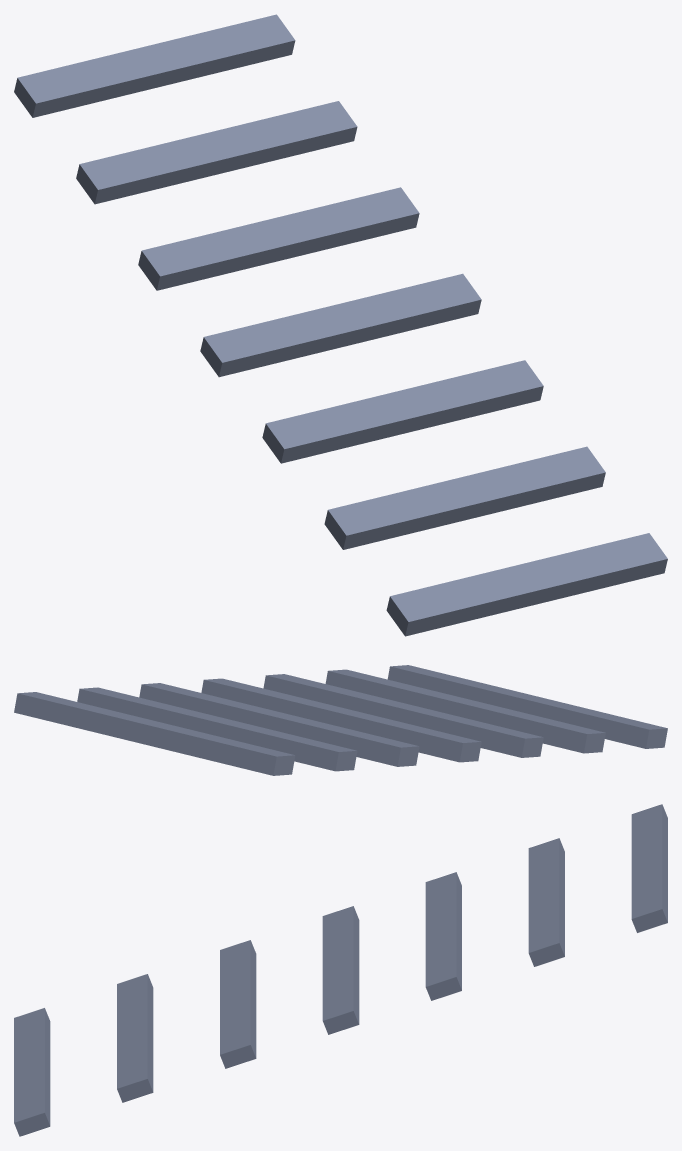
File: conveyor_slope_belt.glb
3 renders of one model, top to bottom at view 1: azimuth 30°, elevation 25°; view 2: azimuth 150°, elevation 25°; view 3: azimuth 270°, elevation 25°, orthographic. The views are drawn at different scales.
Parts seen in each view (by area): view 1: conveyor_slope_belt; view 2: conveyor_slope_belt; view 3: conveyor_slope_belt.
Boxes of the visible parts, x1,y1,x2,y2 form: conveyor_slope_belt: (14, 14, 667, 636); conveyor_slope_belt: (14, 665, 667, 775); conveyor_slope_belt: (14, 804, 667, 1136).
Size of the model in its own units: 0.68 by 0.6887 by 1.79.
